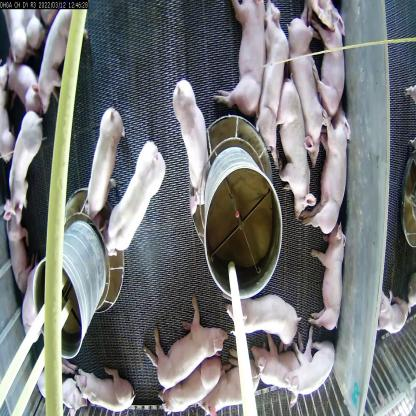Pig: (142, 294, 231, 392), (105, 136, 166, 259), (280, 8, 324, 169), (303, 103, 353, 239), (272, 75, 316, 223), (214, 1, 266, 115), (170, 75, 210, 210), (6, 107, 51, 226), (304, 0, 350, 115), (81, 100, 125, 216), (32, 4, 78, 114), (257, 0, 285, 166), (226, 284, 300, 344), (308, 221, 347, 334), (249, 327, 316, 388), (284, 338, 336, 414), (36, 347, 87, 415), (158, 362, 222, 414), (2, 210, 37, 299), (76, 361, 137, 412), (200, 362, 262, 410), (6, 61, 46, 123), (374, 285, 414, 344), (21, 264, 48, 346), (0, 3, 30, 64)
